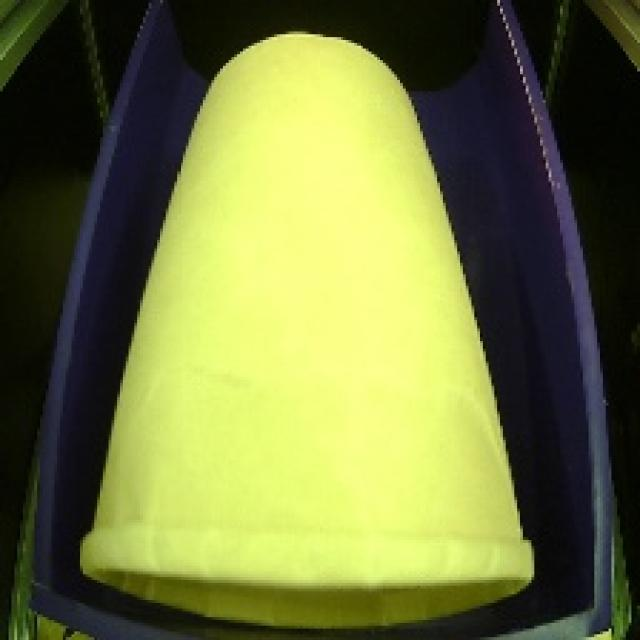cups: (63, 21, 551, 634)
